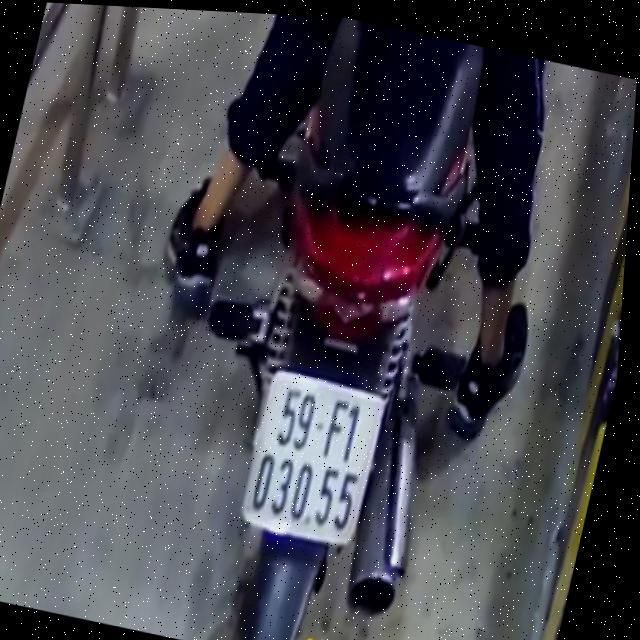motorcycle: (151, 10, 531, 640)
plate: (231, 368, 392, 555)
